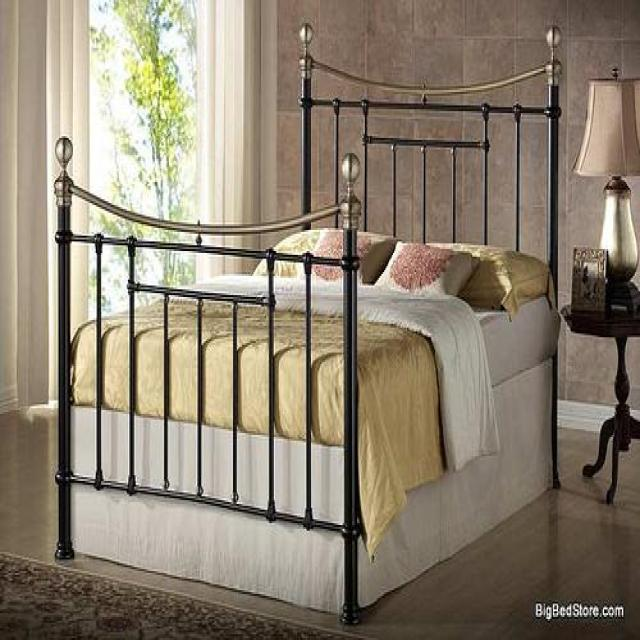bed: (51, 21, 563, 625)
table: (559, 299, 639, 504)
